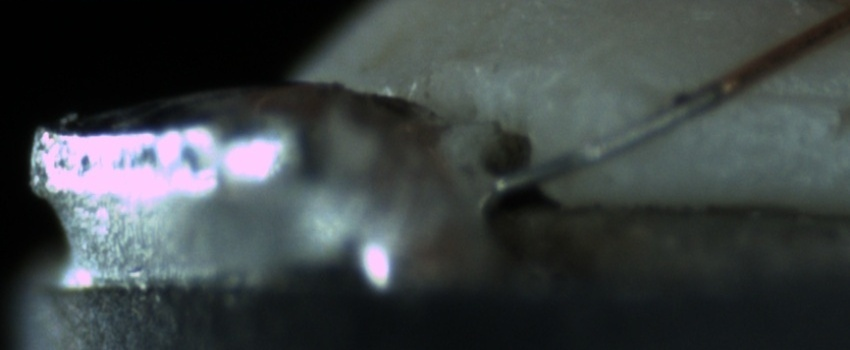DL: (725, 69, 849, 125)
TS: (494, 84, 726, 193)
